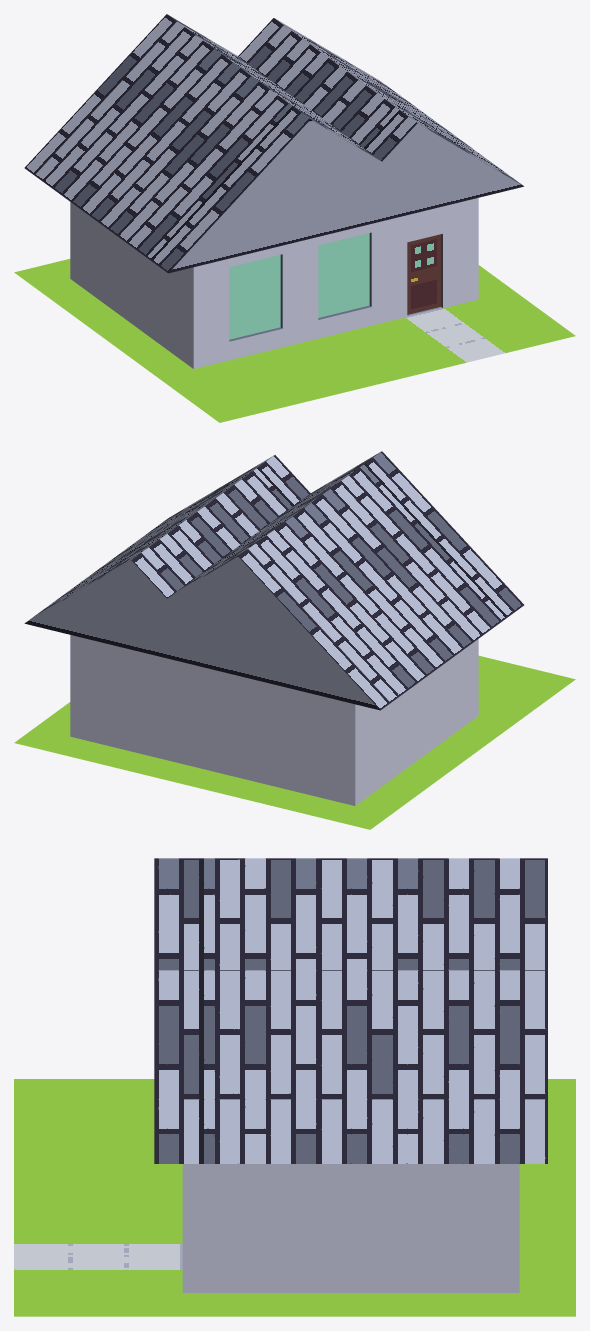
File: house_small.glb
3 views of the same model, one above another, from view 1: azimuth 30°, elevation 25°; view 2: azimuth 150°, elevation 25°; view 3: azimuth 270°, elevation 25° (orthographic). The views are drawn at different scales.
Visible parts, largest first — view 1: Roof, House, Grass; view 2: Roof, House, Grass; view 3: Roof, Grass, House.
Part boxes in pixels (bbox=[...]): Roof: bbox=[24, 14, 523, 273]; House: bbox=[70, 198, 478, 368]; Grass: bbox=[14, 259, 575, 422]; Roof: bbox=[24, 451, 524, 710]; House: bbox=[70, 635, 478, 805]; Grass: bbox=[14, 655, 575, 829]; Roof: bbox=[154, 858, 547, 1163]; Grass: bbox=[14, 1079, 575, 1316]; House: bbox=[182, 1164, 519, 1292].
Size of the model in its own units: 10 by 6.2 by 10.
1 material, 1 textured.
